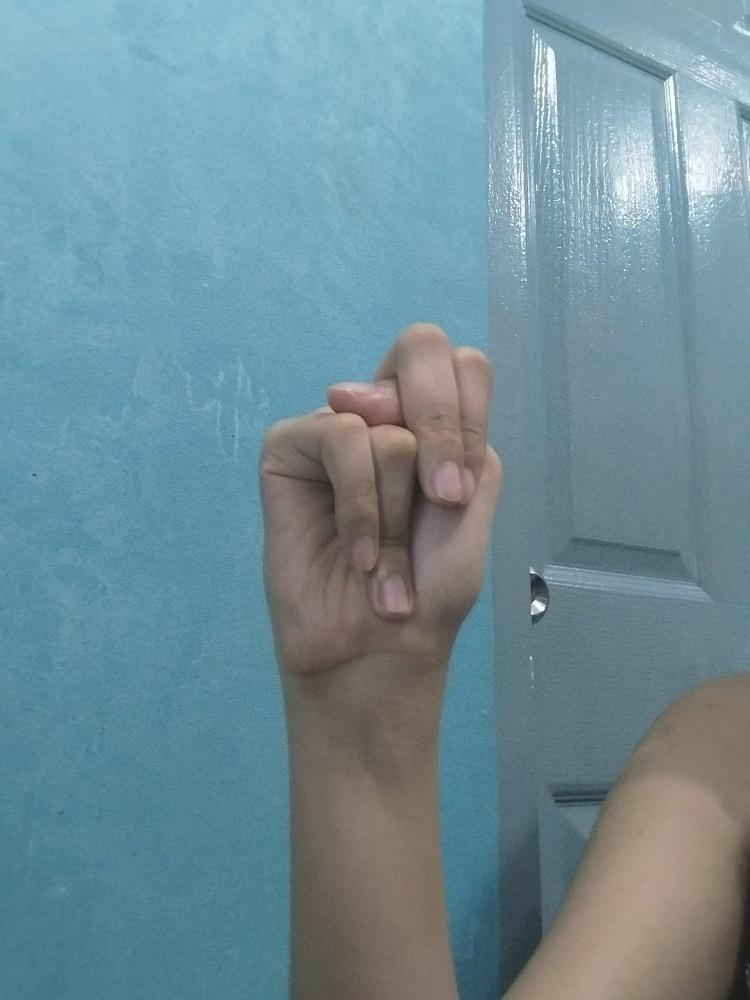n: (255, 322, 502, 660)
